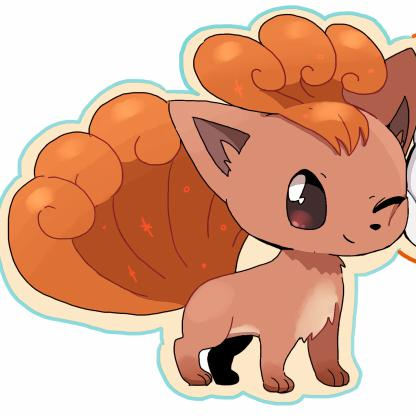Vulpix: (12, 12, 410, 388)
